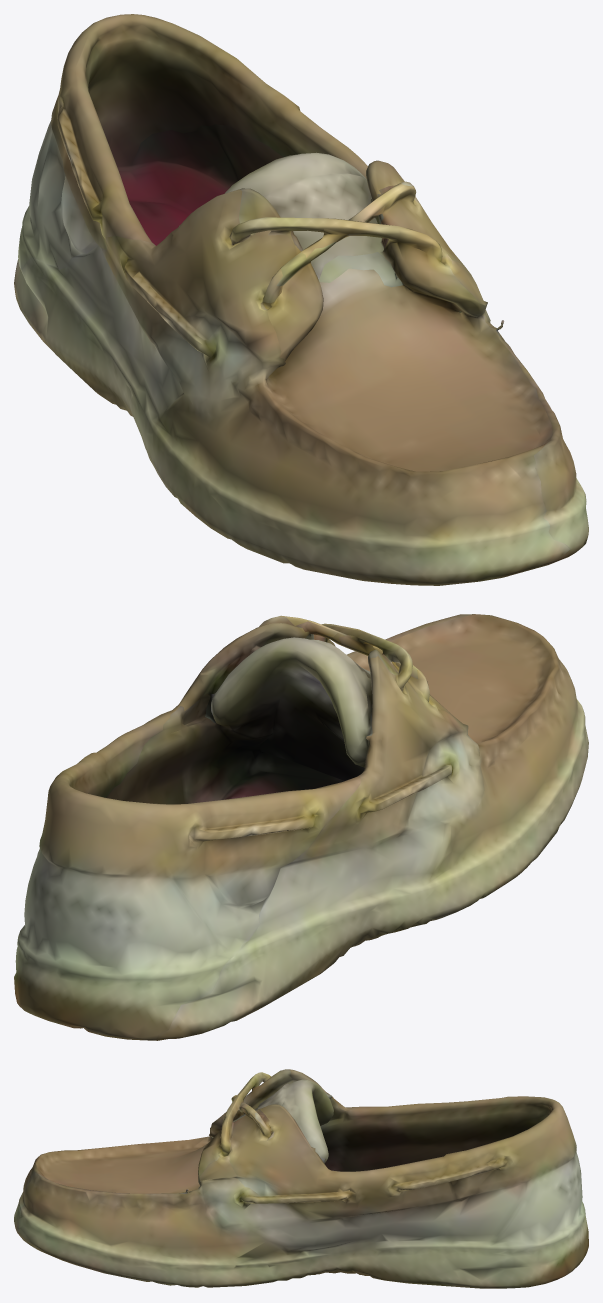
The model's file is Womens_Bluefish_2Eye_Boat_Shoe_in_Linen_Natural_Sparkle_Suede_w34KNQ41csH-high.glb.
The picture shows the model from 3 angles, top to bottom: view 1: azimuth 30°, elevation 25°; view 2: azimuth 150°, elevation 25°; view 3: azimuth 270°, elevation 25°; orthographic projection. The views are drawn at different scales.
Visible parts, largest first — view 1: Womens_Bluefish_2Eye_Boat_Shoe_in_Linen_Natural_Sparkle_Sued; view 2: Womens_Bluefish_2Eye_Boat_Shoe_in_Linen_Natural_Sparkle_Sued; view 3: Womens_Bluefish_2Eye_Boat_Shoe_in_Linen_Natural_Sparkle_Sued.
Boxes of the visible parts, left/top/right/bottom form: Womens_Bluefish_2Eye_Boat_Shoe_in_Linen_Natural_Sparkle_Sued: left=14, top=14, right=588, bottom=585; Womens_Bluefish_2Eye_Boat_Shoe_in_Linen_Natural_Sparkle_Sued: left=14, top=614, right=588, bottom=1040; Womens_Bluefish_2Eye_Boat_Shoe_in_Linen_Natural_Sparkle_Sued: left=14, top=1069, right=588, bottom=1288.
Bounding box in the file's own units: 0.0924 × 0.0828 × 0.2496.
Materials: 1 (1 with a texture image).
